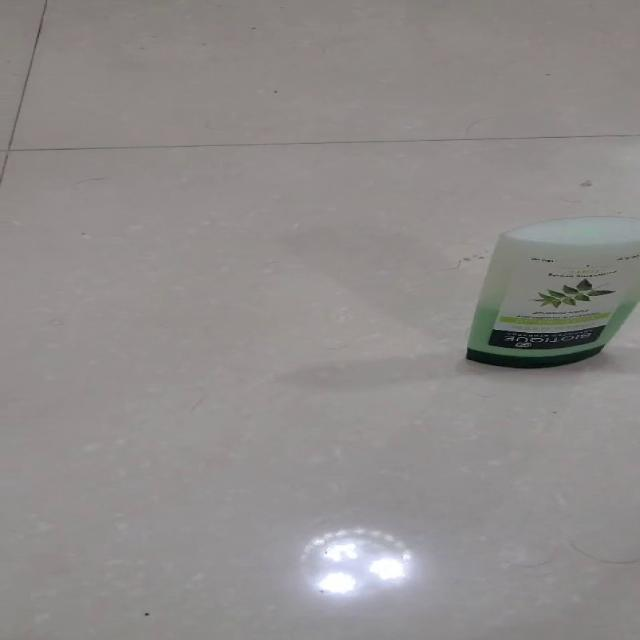plastic: (463, 215, 639, 368)
